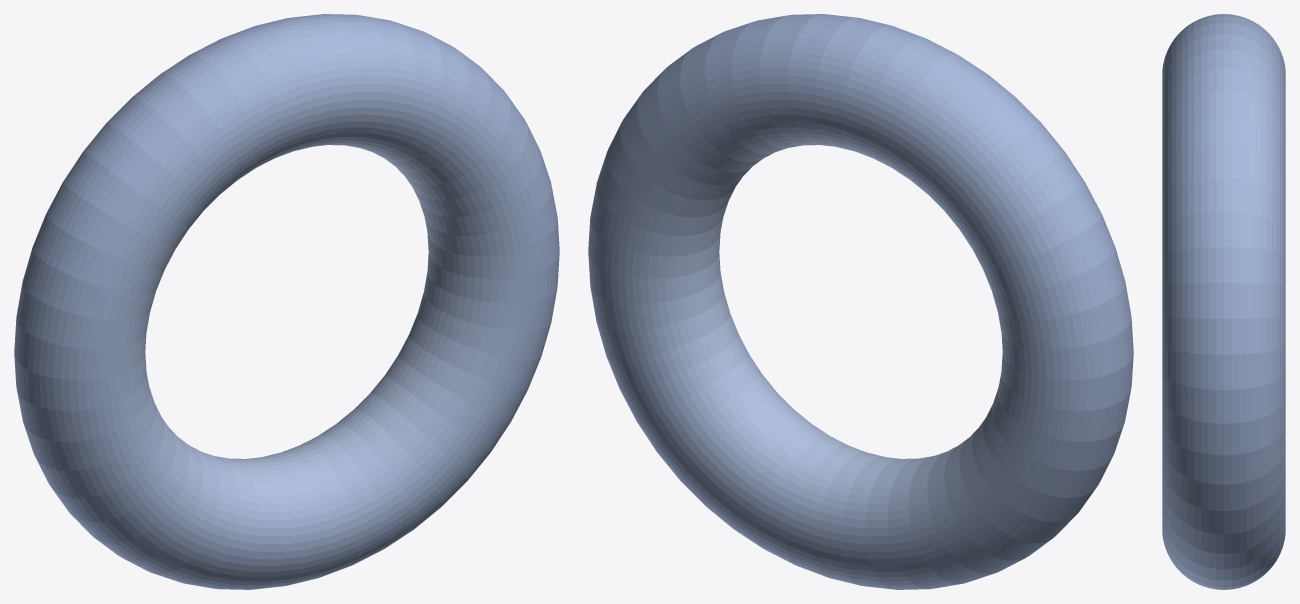
The picture shows the model from 3 angles, left to right: view 1: azimuth 30°, elevation 25°; view 2: azimuth 150°, elevation 25°; view 3: azimuth 270°, elevation 25°; orthographic projection. The views are drawn at different scales.
Parts seen in each view (by area): view 1: world; view 2: world; view 3: world.
Boxes of the visible parts, x1,y1,x2,y2 form: world: (14, 14, 559, 589); world: (588, 14, 1133, 589); world: (1162, 14, 1285, 589).
Size of the model in its own units: 22.93 by 22.89 by 4.92.
